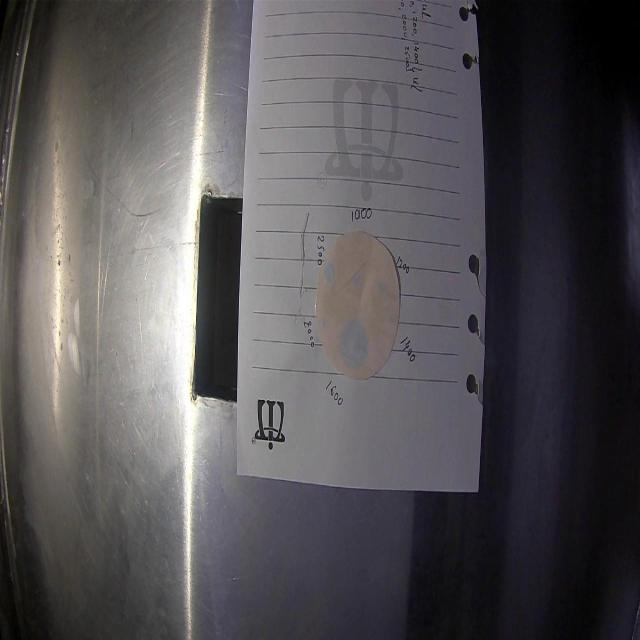BlueColor: (340, 319, 369, 372)
